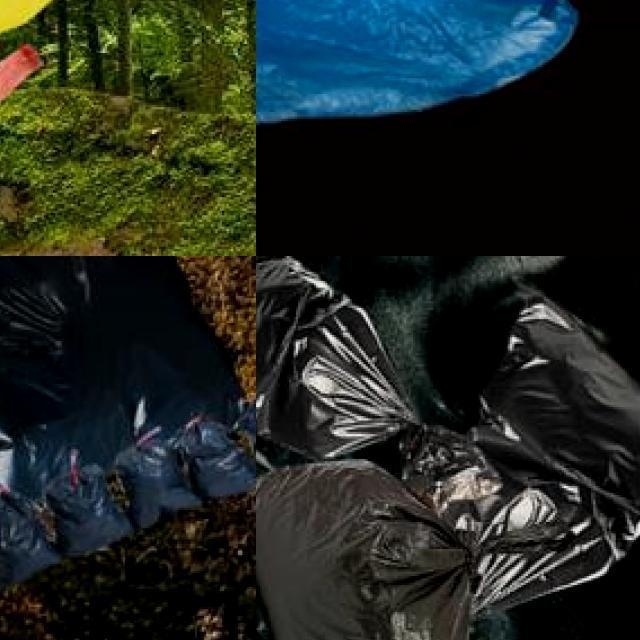waste: (439, 302, 640, 604), (256, 0, 576, 137), (0, 256, 242, 421), (256, 463, 481, 640), (256, 256, 422, 442), (116, 434, 205, 526), (44, 465, 134, 551), (177, 425, 256, 502), (0, 496, 54, 582)
